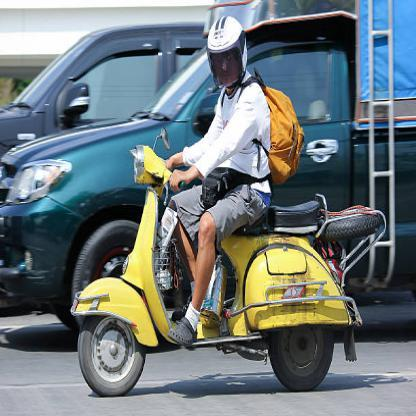Motorcycle: (67, 137, 354, 392)
